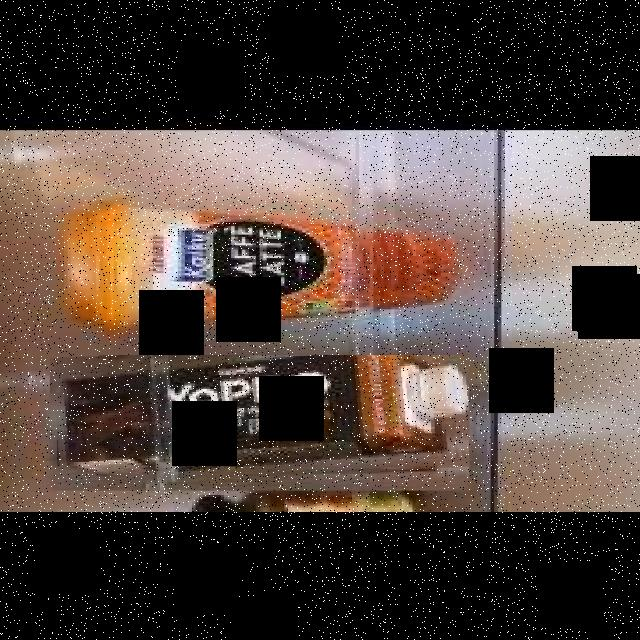yogurt: (50, 355, 469, 488)
